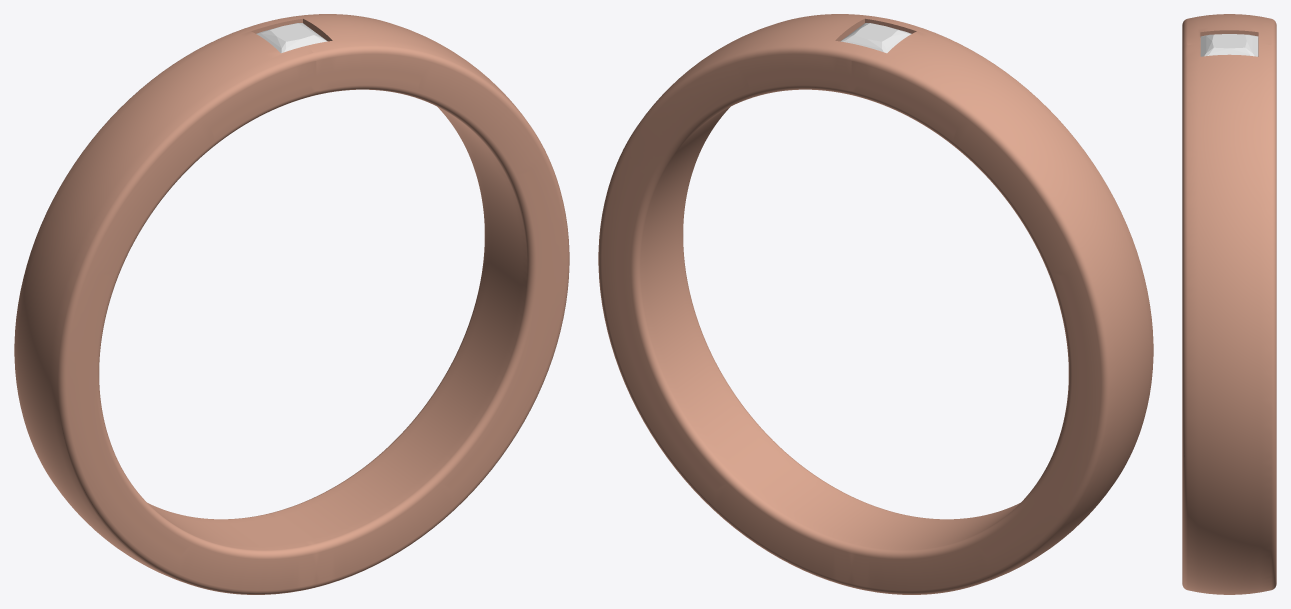
The model's file is Andrew_dia_blender.glb.
3 renders of one model, left to right at view 1: azimuth 30°, elevation 25°; view 2: azimuth 150°, elevation 25°; view 3: azimuth 270°, elevation 25°, orthographic. The views are drawn at different scales.
Visible parts, largest first — view 1: Andrew RG with stone for 3d model, Andrew dia for 3d model; view 2: Andrew RG with stone for 3d model, Andrew dia for 3d model; view 3: Andrew RG with stone for 3d model, Andrew dia for 3d model.
Part boxes in pixels (x1,y1,x2,y2): Andrew RG with stone for 3d model: (14,14,569,594); Andrew dia for 3d model: (256,23,327,53); Andrew RG with stone for 3d model: (598,14,1153,594); Andrew dia for 3d model: (840,23,911,53); Andrew RG with stone for 3d model: (1182,14,1276,594); Andrew dia for 3d model: (1200,34,1258,56).
Size of the model in its own units: 25.25 by 25.25 by 4.1.
